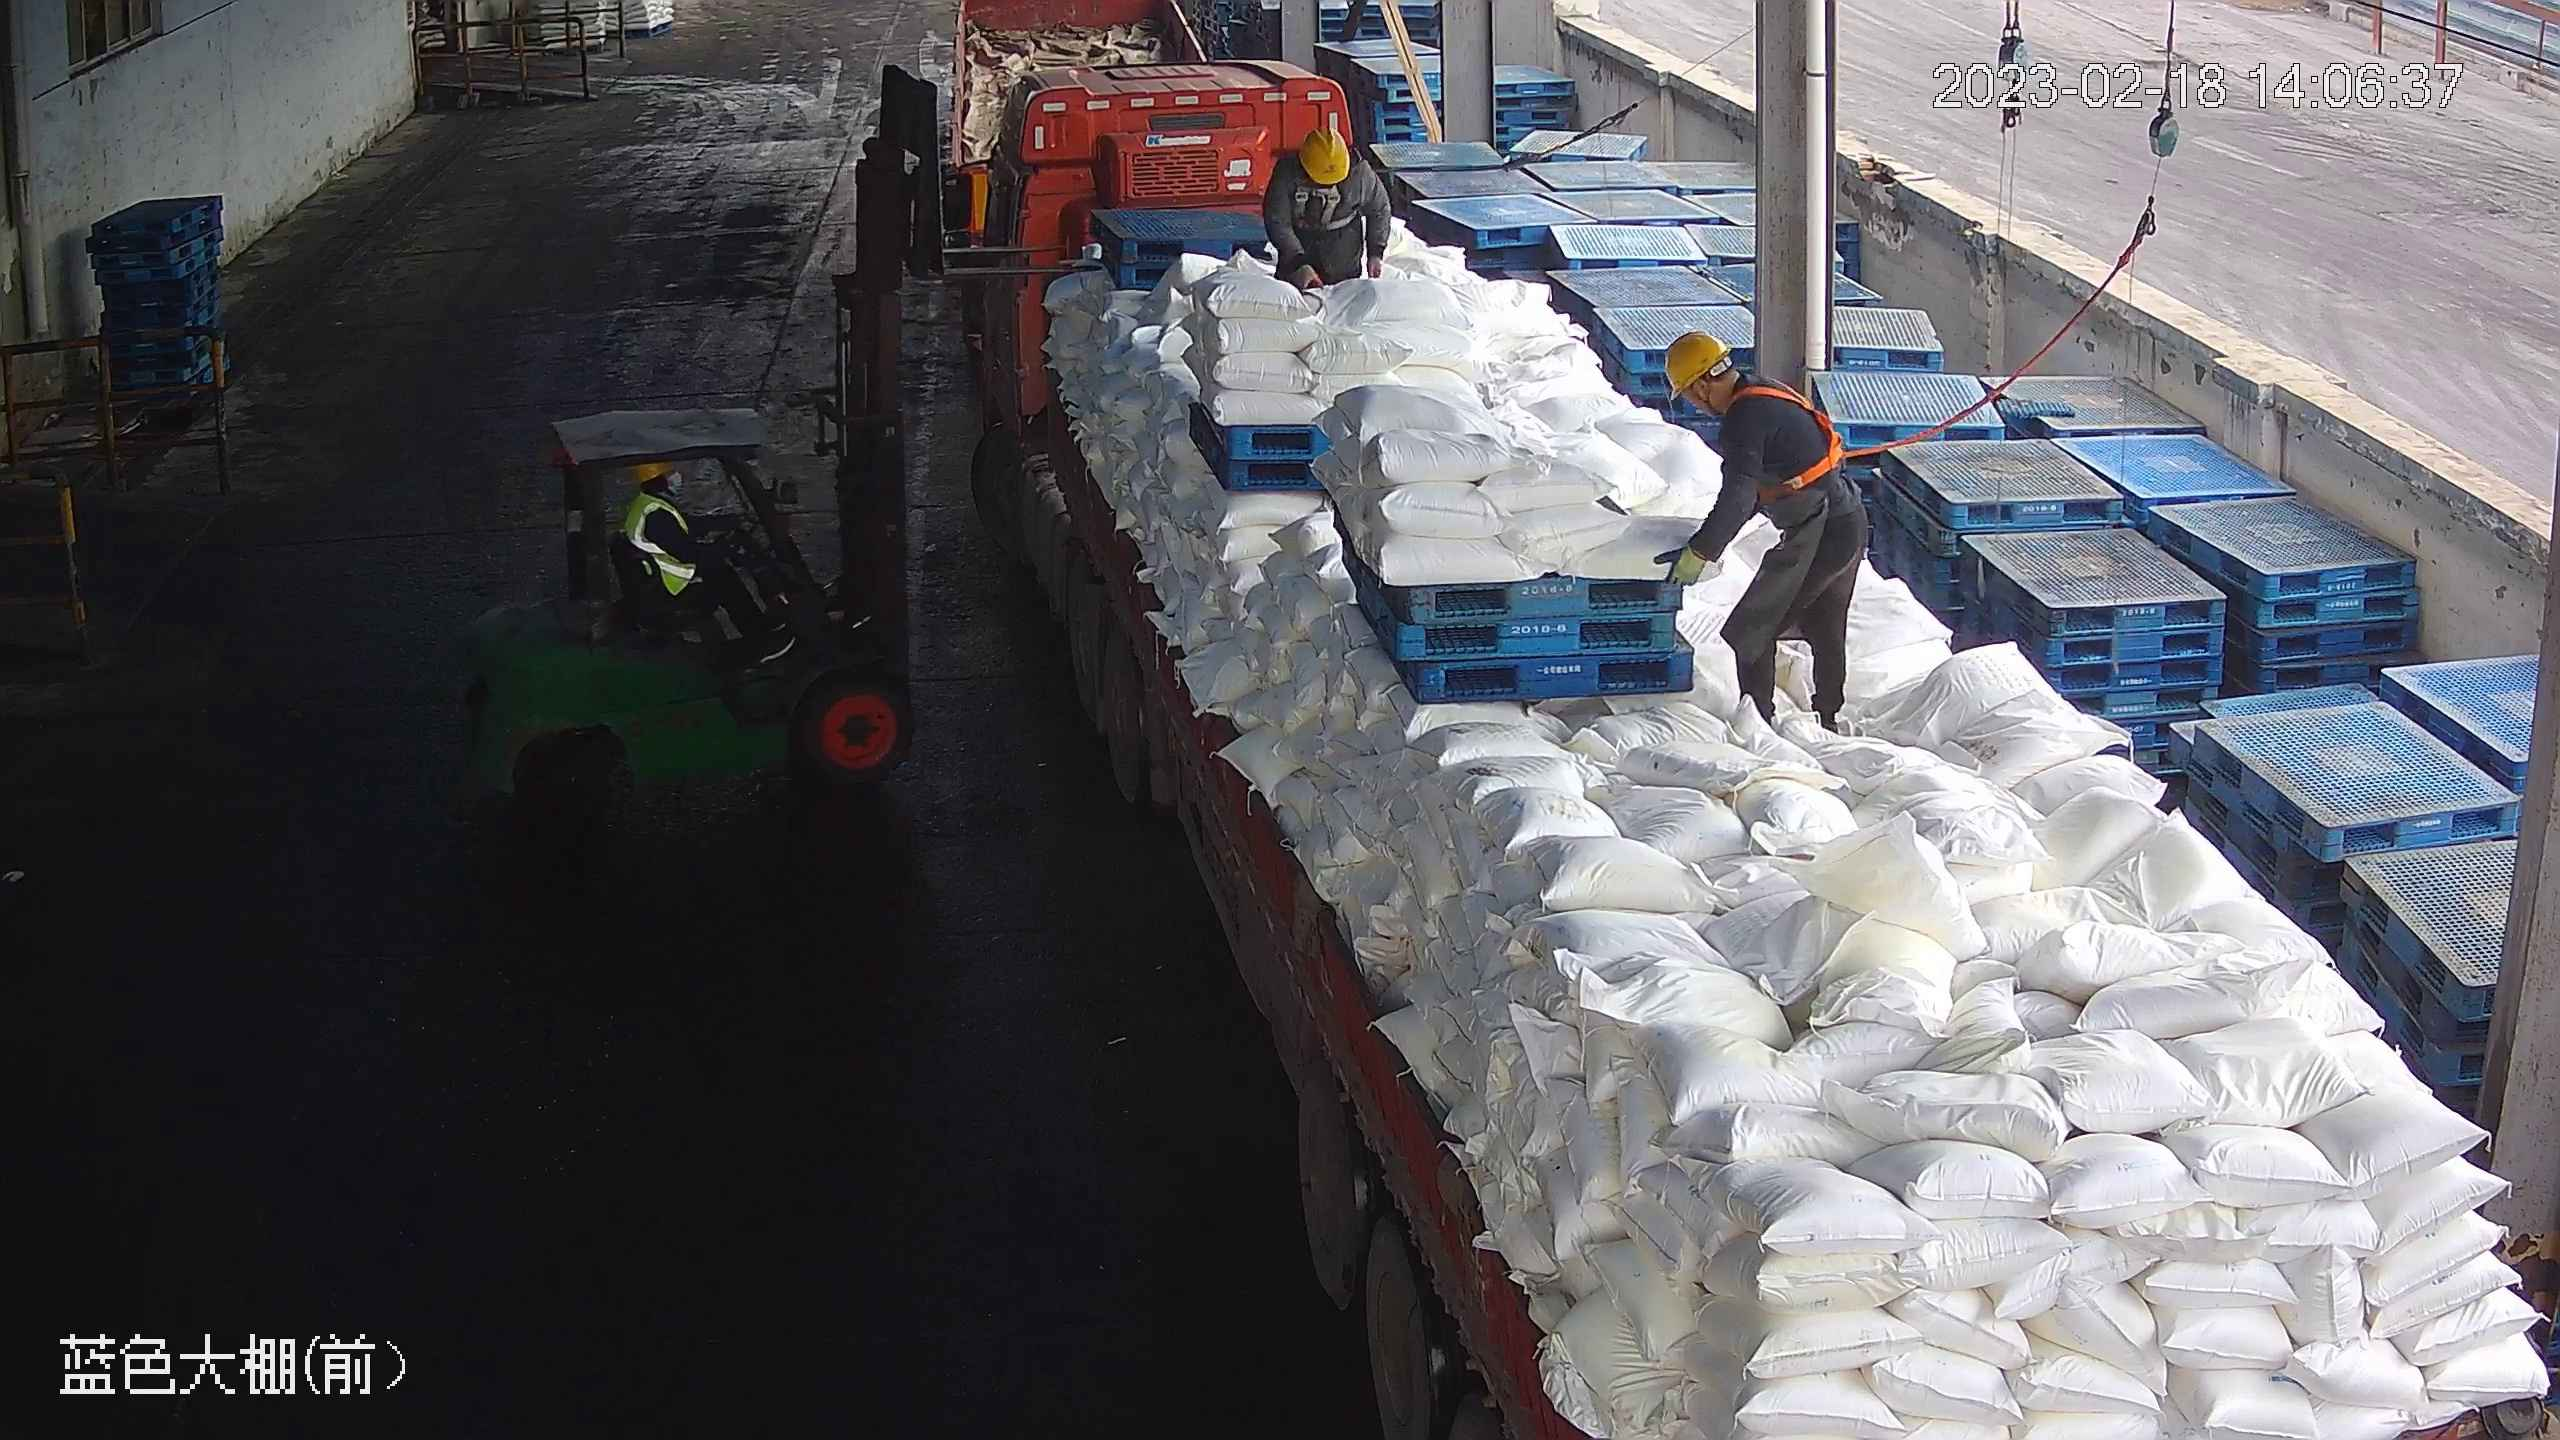belt: (1261, 124, 1394, 292), (1735, 372, 1849, 493), (1296, 178, 1351, 228)
head: (1662, 330, 1817, 452), (1274, 124, 1380, 206), (624, 459, 690, 534)
helmet: (1660, 330, 1734, 399), (1293, 125, 1351, 186)
people: (1657, 329, 1870, 732), (626, 458, 776, 659), (1261, 123, 1393, 293)
truck: (956, 49, 2556, 1440)
